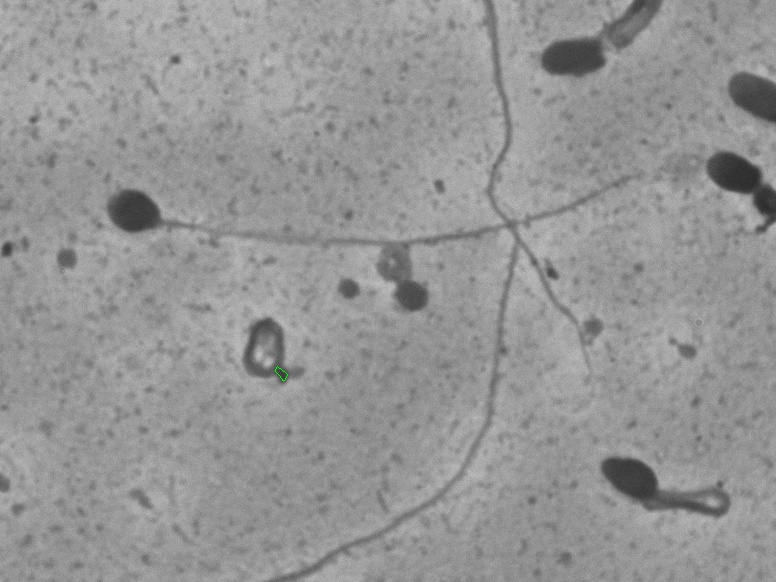Abnormal: (92, 131, 484, 297), (566, 424, 746, 555)
